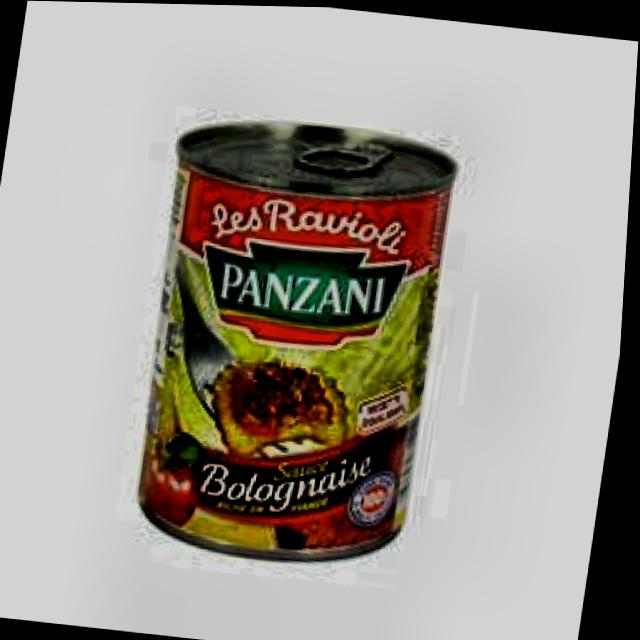Cans: (103, 91, 489, 585)
